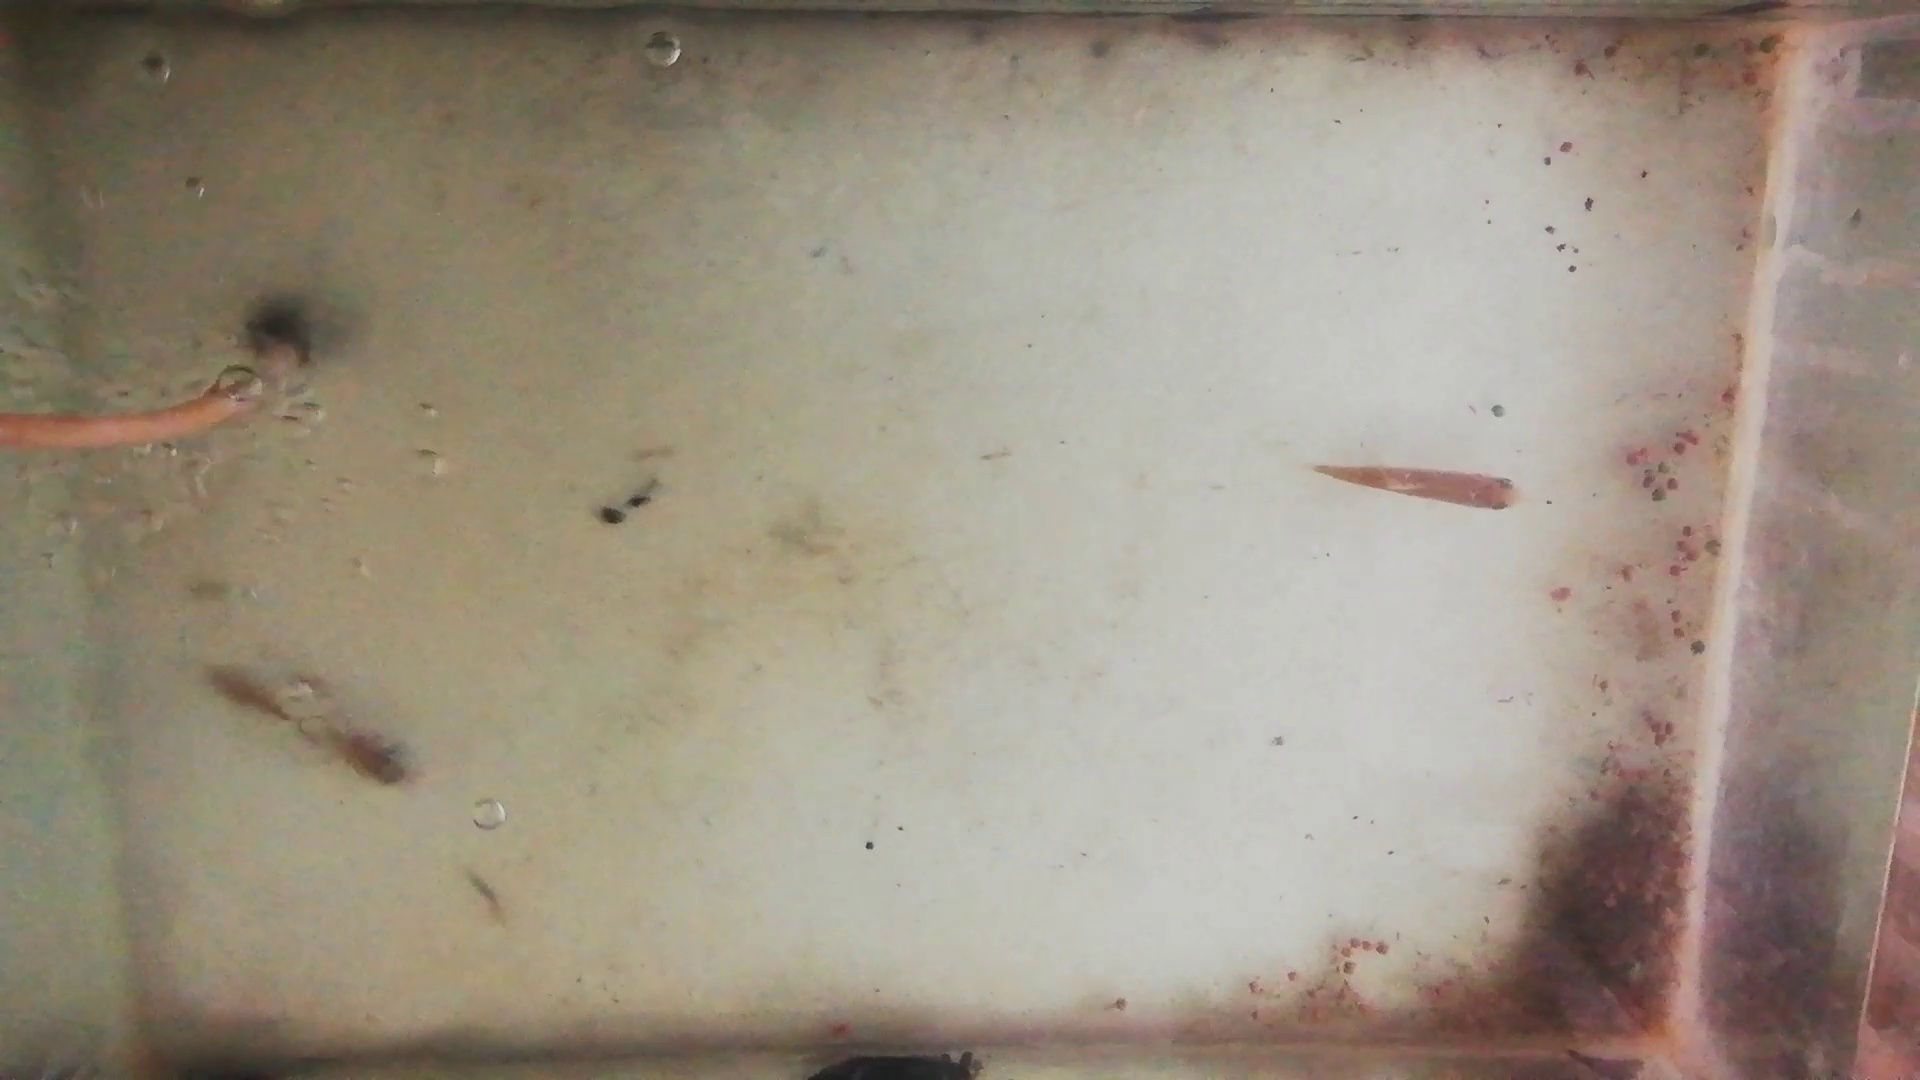fish: (199, 659, 413, 789), (1313, 463, 1520, 517)
